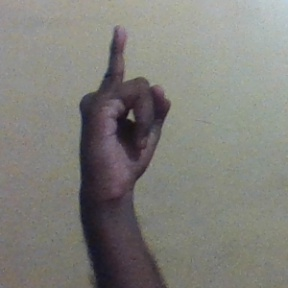I: (77, 23, 174, 186)
